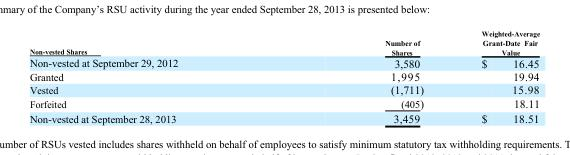table: (28, 29, 539, 124)
table column: (28, 29, 280, 124), (280, 29, 451, 124), (451, 29, 539, 124)
table column header: (28, 29, 539, 56)
table row: (28, 29, 539, 56), (28, 82, 539, 96), (28, 96, 539, 110), (28, 110, 539, 124), (28, 56, 539, 69), (28, 69, 539, 82)
